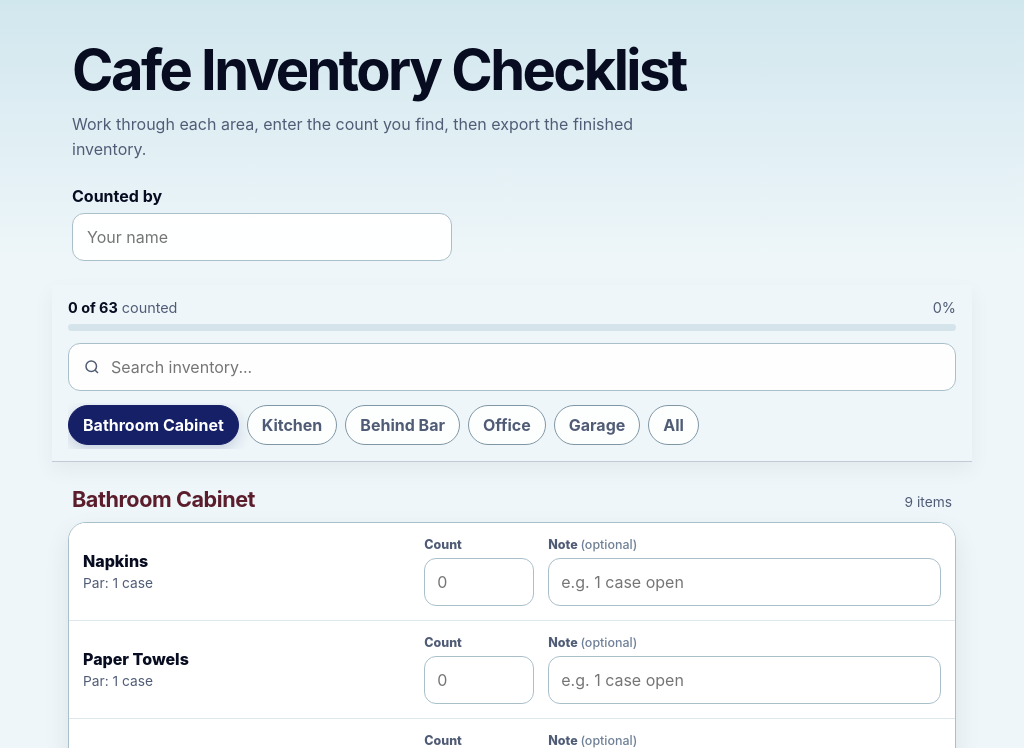
Test: App › keeps counts and notes when changing tabs and searching
Step 1. Type "2" into the number field named "Napkins count" → (479,582), box [424,558,534,606]
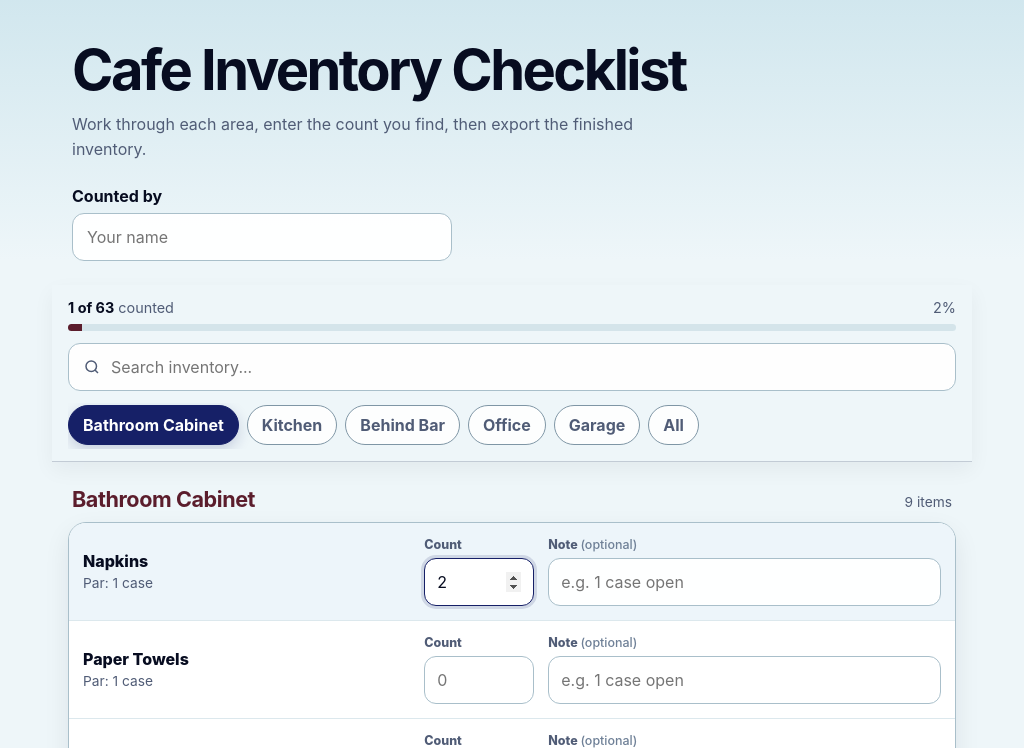
Step 2. Type "1 case open" into the field named "Napkins note" → (745,582), box [548,558,941,606]
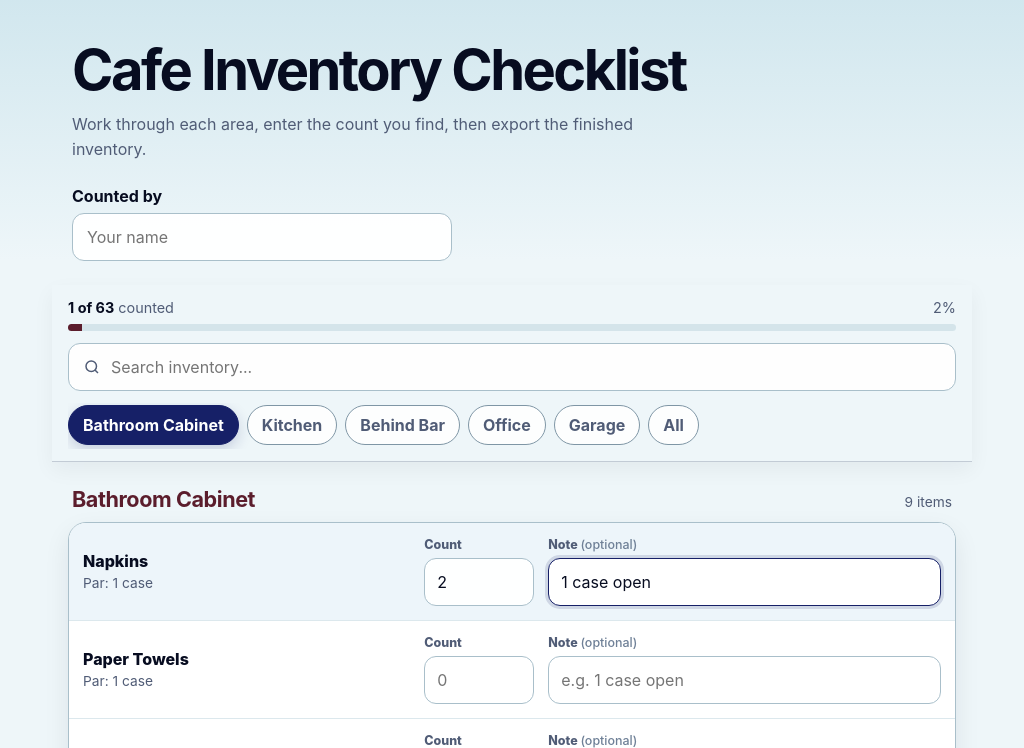
Step 3. Click the button "Kitchen" → (292,425), box [247,405,337,445]
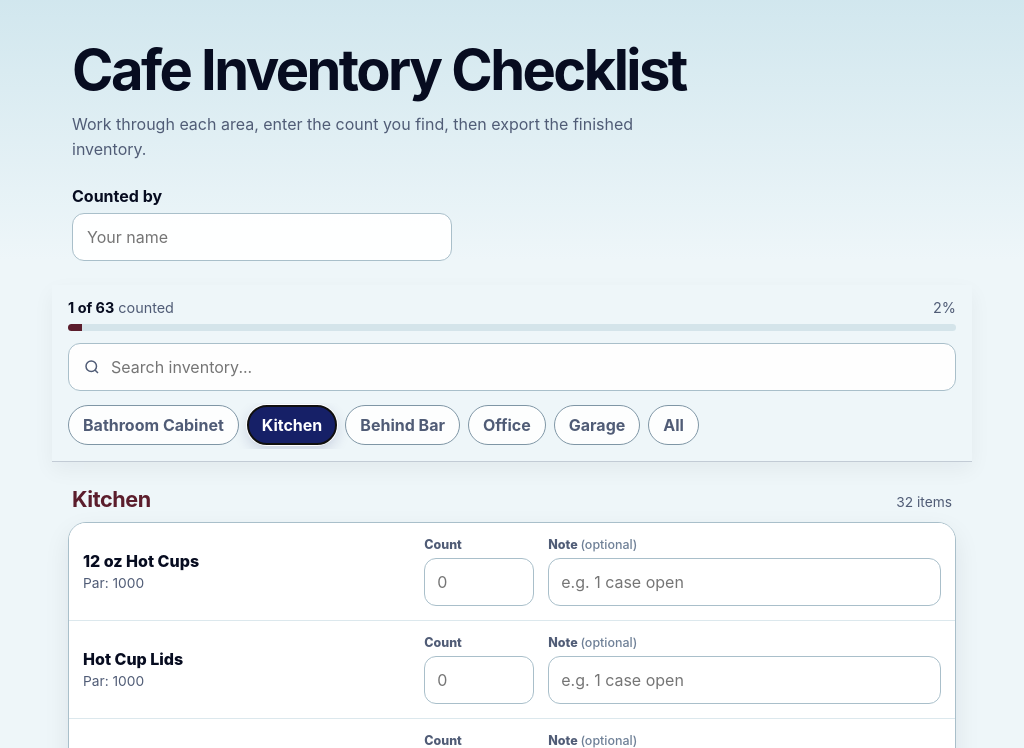
Step 4. Click the button "Bathroom Cabinet" → (153,425), box [68,405,239,445]
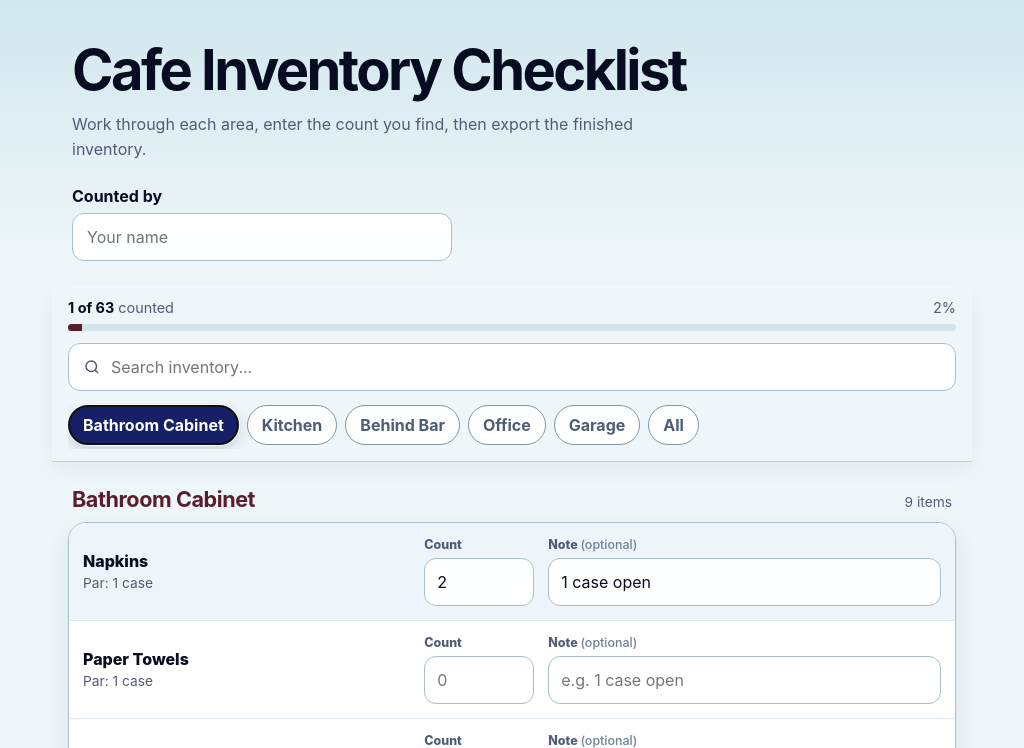
Now the number field named "Napkins count" holds "2", box [424,558,534,606]
Now the field named "Napkins note" holds "1 case open", box [548,558,941,606]
Step 5. Type "paper towels" into the search field labelled "Search inventory" → (512,367), box [68,343,956,391]
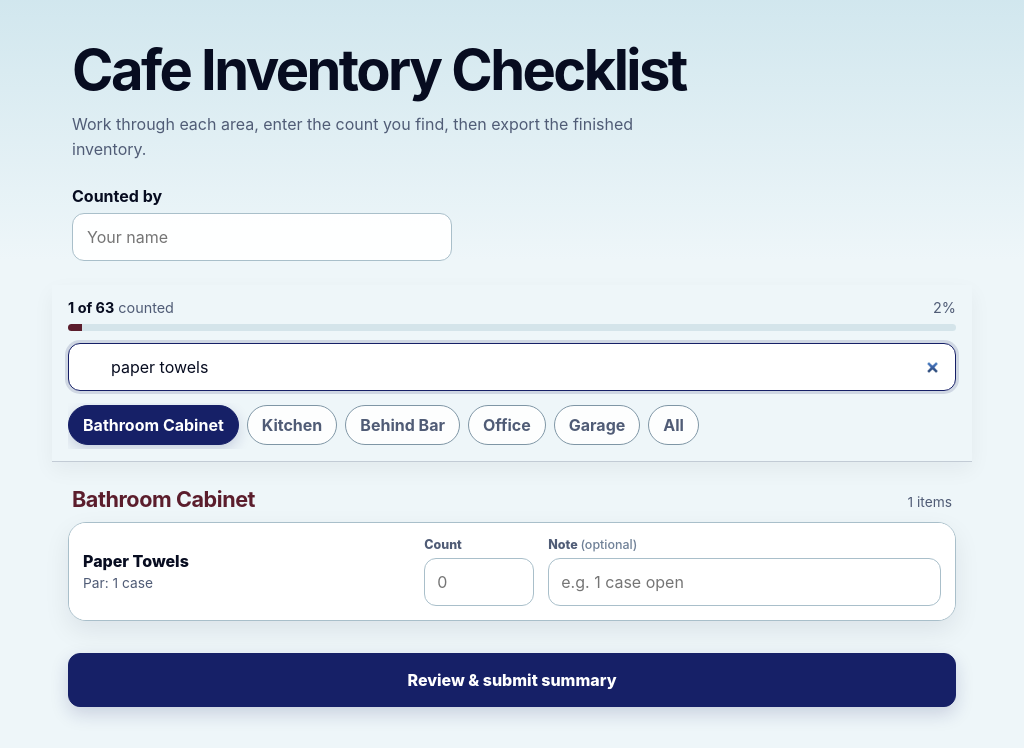
Now the text "Paper Towels" is shown, box [83,551,189,571]
Step 6. Clear the search field named "Search inventory" → (512,367), box [68,343,956,391]
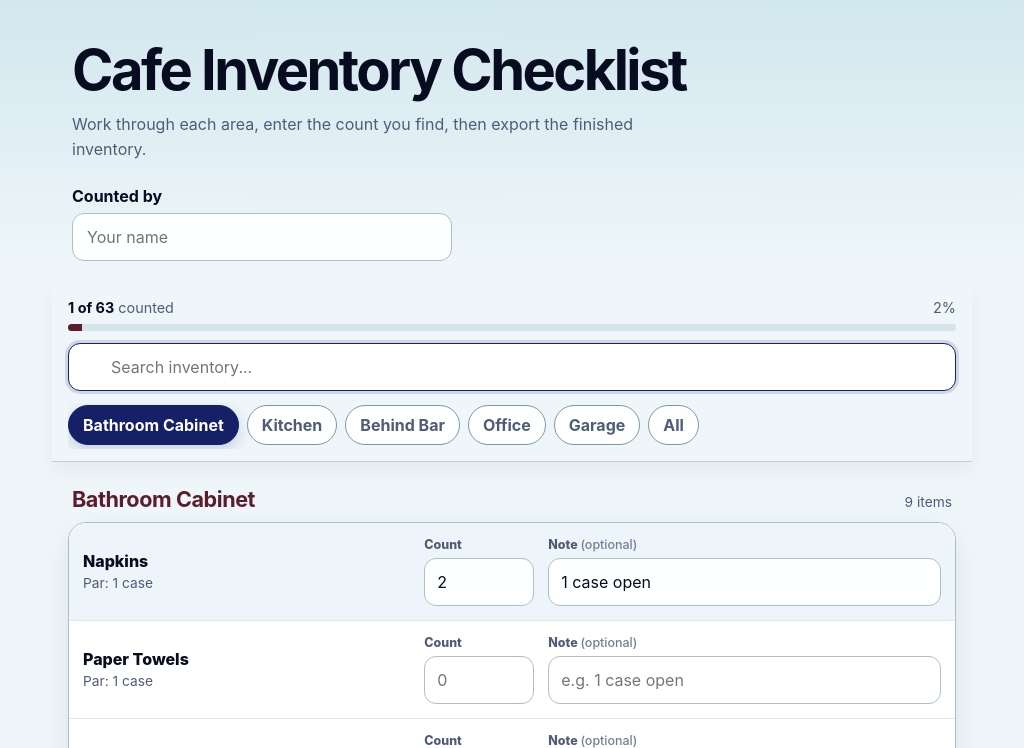
Now the number field named "Napkins count" holds "2", box [424,558,534,606]
